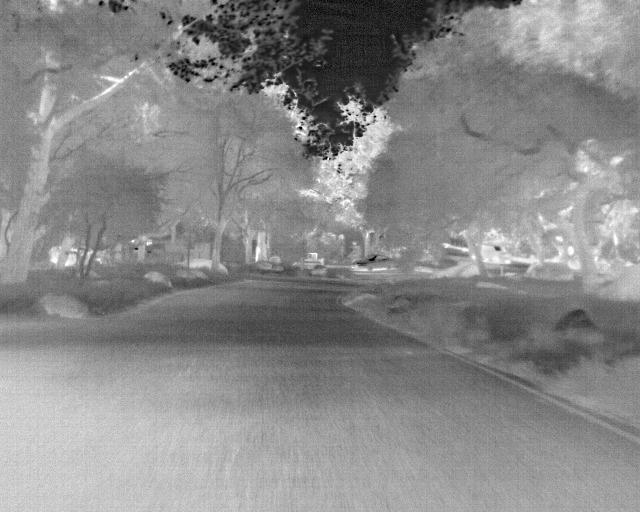car: (356, 253, 394, 270)
